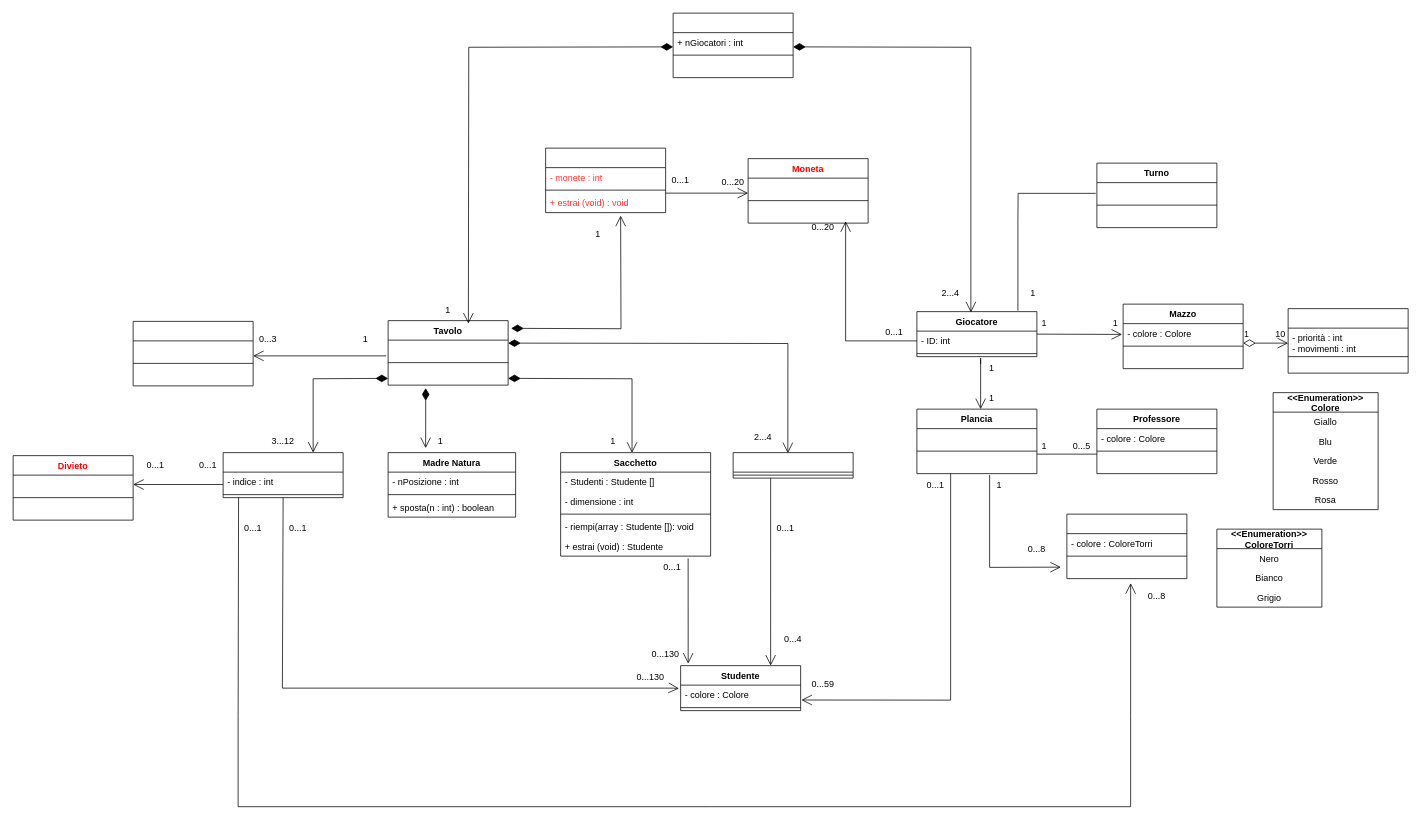
The diagram is 1421 pixels wide and 831 high, and some of its shapes have lost their labels. The shapes that lost their labels are listed below. From the top down, each one's box as (x1, y1, x2, y2) in pixels, then its label:
(672, 12, 793, 78): Game
(545, 147, 666, 213): Riserva Generale
(132, 321, 253, 386): Personaggio
(1287, 308, 1408, 373): Carta Assistente
(222, 452, 343, 498): Tessera Isola
(732, 452, 853, 478): Tessera Nuvola
(1066, 513, 1187, 579): Torre
